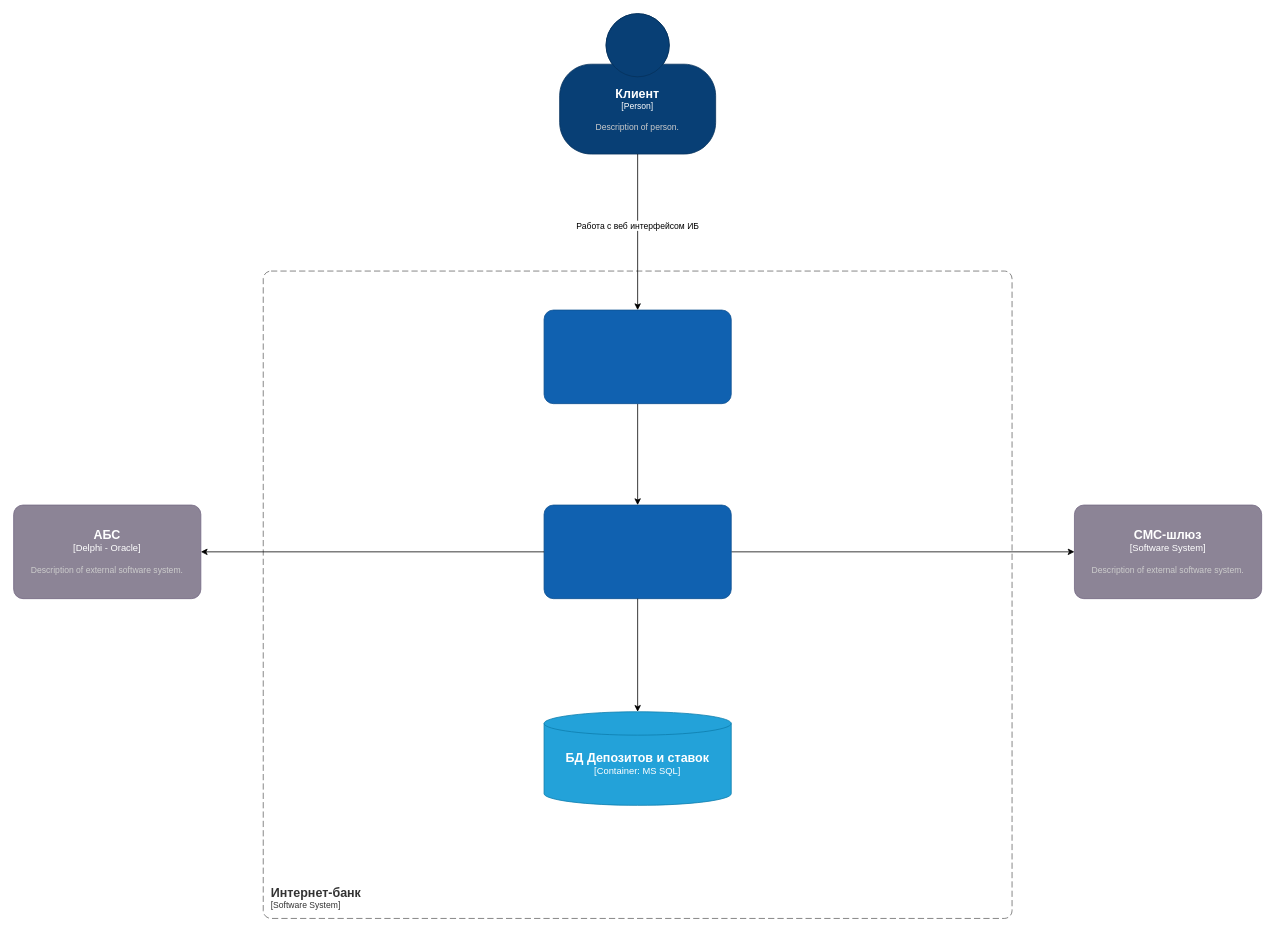
Image size: 1275x932. Some labels were removed from this diagram. The shapes that lost their labels are listed below. From the top down, each one's centre as x and y in pixels, then its label:
the point at 637,356: Web-приложение ИБ [ASP.NET] Description of software system.
the point at 637,551: Сервис работы с депозитами [.NET]
